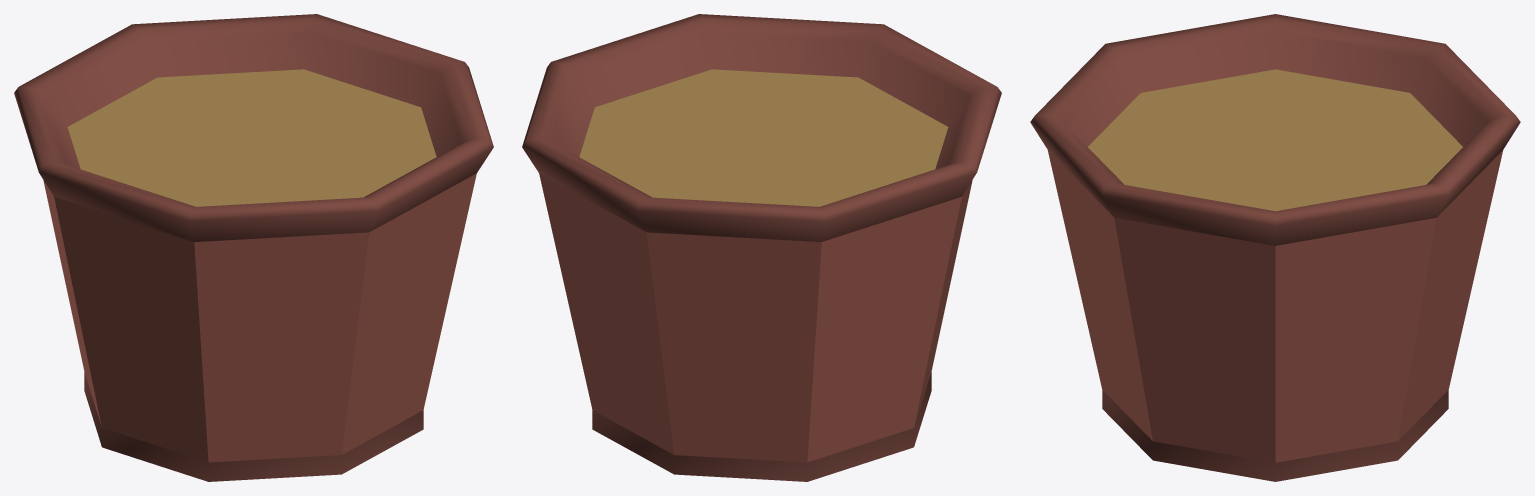
Rendered from Garden_Vase_02.fbx.
The picture shows the model from 3 angles, left to right: view 1: azimuth 30°, elevation 25°; view 2: azimuth 150°, elevation 25°; view 3: azimuth 270°, elevation 25°; orthographic projection.
Parts seen in each view (by area): view 1: Garden_Vase_02; view 2: Garden_Vase_02; view 3: Garden_Vase_02.
Boxes of the visible parts, x1,y1,x2,y2 form: Garden_Vase_02: (14, 14, 493, 481); Garden_Vase_02: (522, 14, 1001, 481); Garden_Vase_02: (1030, 14, 1520, 481).
Size of the model in its own units: 39.72 by 26.18 by 39.72.
